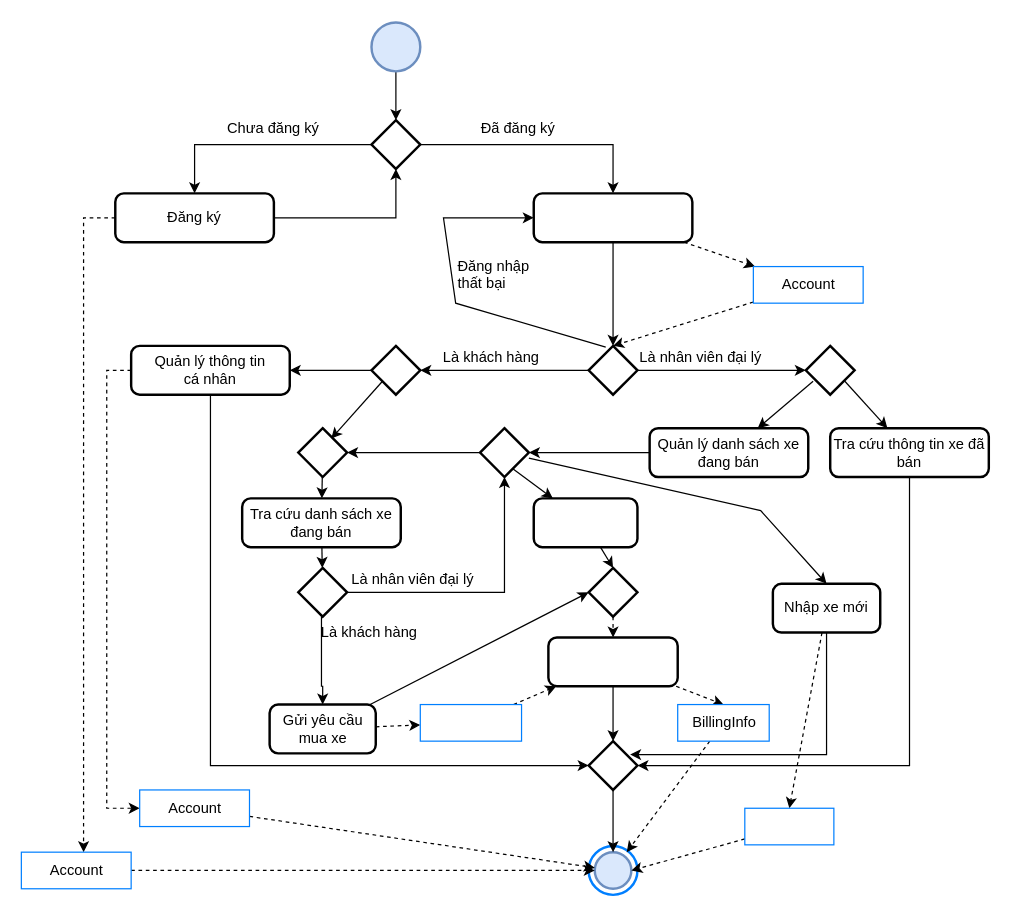
Some shapes in this 1011 by 916 pixel diagram are drawn without their labels. Each missing label, with the centre of its shape:
BuyRequest: the point at 470,722
CarDetails: the point at 789,826
Hoàn tất thông tin mua bán xe: the point at 612,661
Kiểm tra yêu cầu mua xe: the point at 585,522
Đăng nhập: the point at 612,217
